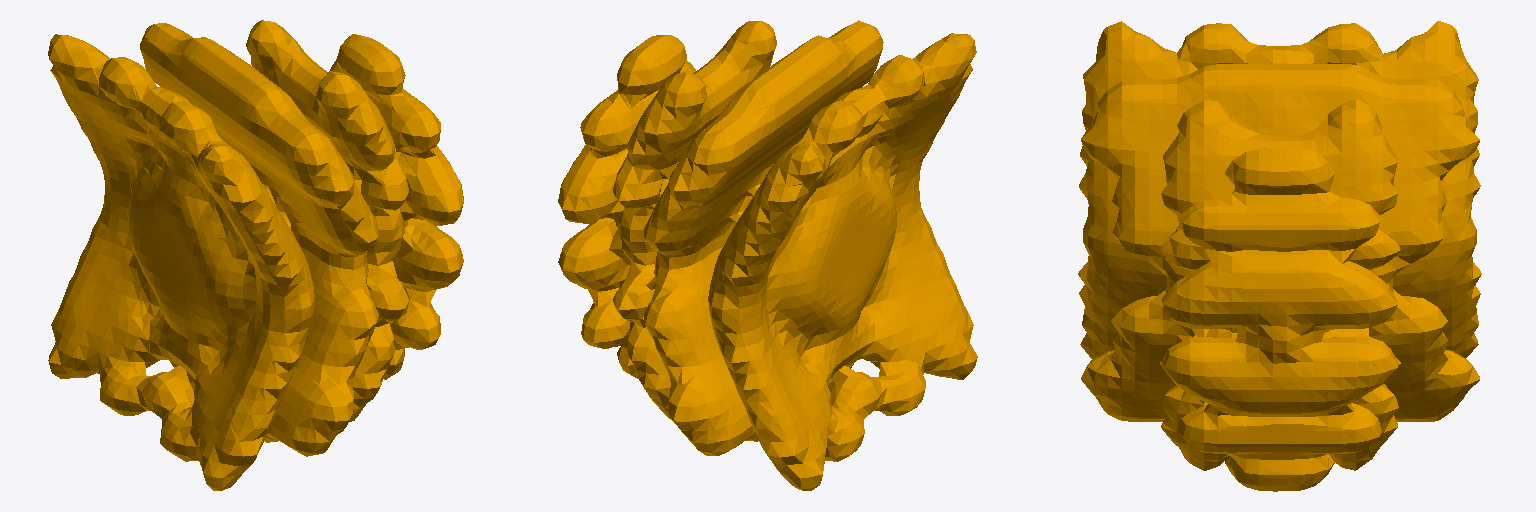
URDF robot description (Q21_1):
<?xml version="1.0"?>
<robot name="Q21_1">
  <link name="base_link">
    <visual>
      <geometry>
        <mesh filename="../../../../meshes/egad/train/Q21_1.obj" />
      </geometry>
    </visual>
  </link>
</robot>

--- Render facts (derived) ---
3 views of the same robot in one strip: view 1: azimuth 30°, elevation 25°; view 2: azimuth 150°, elevation 25°; view 3: azimuth 270°, elevation 25° (orthographic).
Model Q21_1 with 1 links and 0 joints (none), rooted at base_link, posed every joint at zero.
Links seen in each view (by area): view 1: base_link; view 2: base_link; view 3: base_link.
Link boxes in pixels (x1,y1,x2,y2): base_link: (48,20,463,490); base_link: (558,20,977,490); base_link: (1078,21,1481,491).
Bounding box of the posed robot: 0.0602 × 0.0671 × 0.0674 m (x, y, z).
1 mesh visuals loaded from 1 distinct referenced files (1 OBJ).